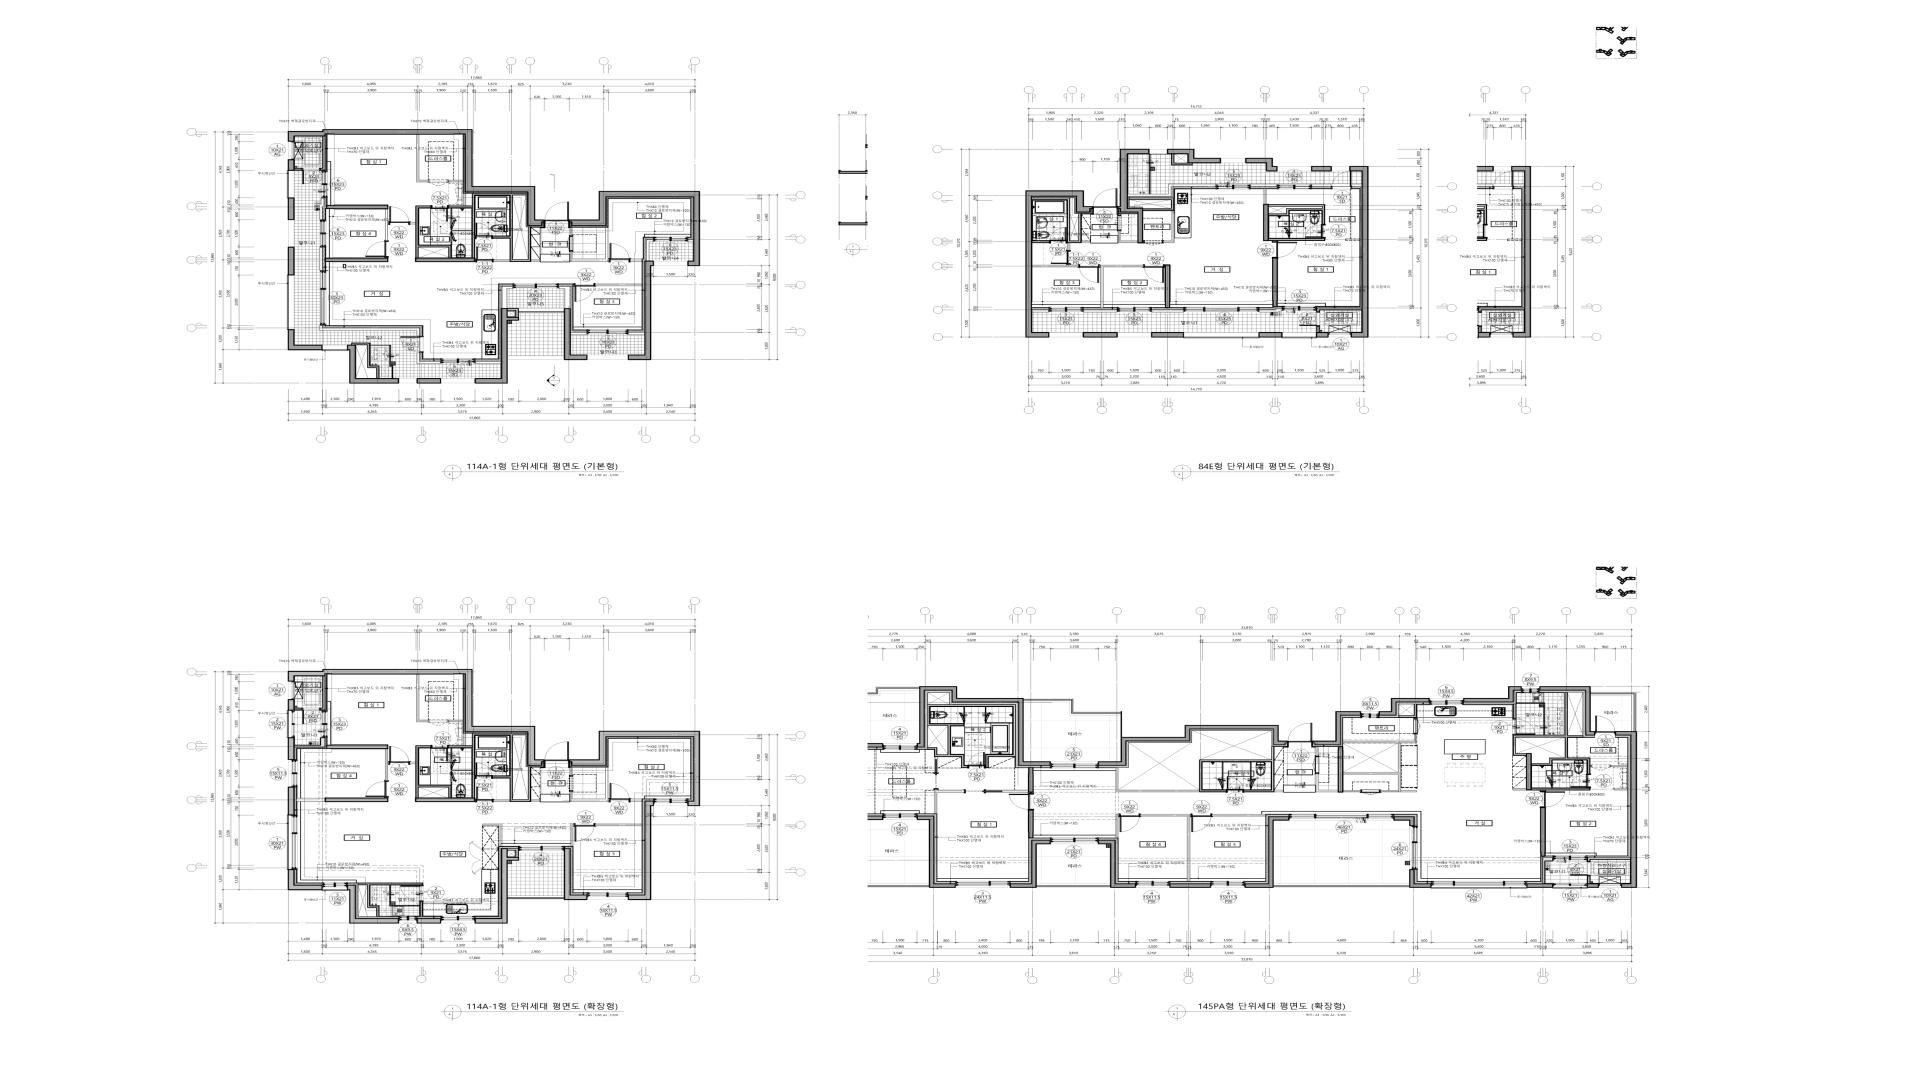door: (1092, 189, 1118, 215), (543, 742, 570, 769), (543, 203, 570, 228), (1288, 723, 1312, 744), (1009, 793, 1034, 811), (1271, 241, 1298, 258), (608, 243, 630, 262), (608, 783, 630, 803), (1540, 791, 1565, 808), (1143, 264, 1164, 284), (1079, 264, 1100, 284), (388, 207, 410, 225), (1118, 814, 1141, 832), (365, 781, 389, 798), (574, 284, 595, 302), (574, 823, 595, 841), (388, 746, 409, 765), (1191, 814, 1212, 832), (365, 241, 389, 257), (400, 336, 423, 352), (400, 886, 423, 902), (1513, 719, 1536, 735), (1332, 171, 1352, 190), (1596, 716, 1615, 735), (302, 167, 320, 185), (475, 762, 493, 779), (1299, 311, 1320, 326), (1050, 227, 1067, 244), (968, 752, 985, 769), (431, 745, 448, 762), (475, 247, 493, 262), (475, 223, 493, 239), (475, 787, 493, 803), (302, 708, 320, 724), (1305, 224, 1325, 239), (1051, 251, 1071, 265), (1571, 861, 1590, 876), (1571, 774, 1592, 787), (431, 206, 448, 222), (1226, 777, 1244, 793), (1590, 765, 1611, 771), (429, 179, 448, 186), (1414, 719, 1420, 735), (1143, 240, 1163, 245), (429, 720, 448, 725), (1361, 790, 1381, 795), (934, 773, 939, 790), (964, 790, 985, 794)
wall: (287, 669, 543, 766), (287, 129, 543, 225), (916, 686, 1051, 766), (570, 191, 700, 266), (570, 731, 700, 806), (1026, 190, 1092, 338), (1098, 725, 1288, 766), (1116, 746, 1283, 793), (1513, 692, 1590, 774), (448, 194, 539, 262), (448, 733, 539, 802), (927, 704, 1015, 769), (1344, 735, 1418, 793), (1023, 699, 1122, 737), (1615, 731, 1638, 887), (475, 848, 520, 924), (1349, 166, 1369, 338), (475, 309, 520, 384), (1141, 814, 1191, 881), (1245, 816, 1290, 887), (1033, 198, 1091, 251), (1118, 149, 1150, 244), (916, 816, 956, 887), (1540, 686, 1596, 736), (628, 800, 654, 901), (628, 261, 654, 360), (409, 745, 452, 798), (359, 882, 423, 916), (410, 206, 452, 257), (347, 885, 400, 924), (857, 744, 884, 820), (347, 345, 400, 384), (1010, 840, 1051, 887), (1098, 840, 1137, 887), (1101, 265, 1143, 307), (1592, 692, 1636, 731), (1312, 711, 1361, 745), (570, 228, 608, 262), (570, 767, 608, 802), (564, 848, 588, 901), (1127, 183, 1216, 196), (564, 309, 587, 360), (1269, 204, 1325, 224), (319, 326, 419, 336), (351, 343, 380, 378), (1464, 686, 1522, 703), (1379, 698, 1429, 716), (287, 330, 322, 351), (287, 869, 322, 890), (1167, 149, 1221, 162), (935, 790, 964, 814), (853, 687, 919, 696), (417, 135, 429, 182), (417, 675, 429, 723), (1274, 884, 1410, 887), (1129, 198, 1174, 210), (1245, 158, 1278, 171), (1410, 869, 1432, 887), (483, 824, 501, 847), (1316, 774, 1338, 793), (1163, 211, 1175, 243), (326, 257, 388, 262), (327, 204, 388, 210), (294, 737, 324, 748), (415, 257, 475, 262), (853, 884, 928, 887), (1036, 884, 1110, 887), (1164, 265, 1171, 309), (1398, 704, 1418, 719), (1543, 857, 1553, 884), (501, 286, 513, 309), (1273, 258, 1278, 307), (1540, 808, 1545, 857), (1526, 753, 1532, 791), (417, 353, 440, 364), (324, 798, 388, 802), (326, 745, 388, 749), (1338, 746, 1344, 793), (559, 286, 570, 309), (1171, 154, 1193, 165), (1118, 231, 1138, 243), (415, 798, 475, 802), (1532, 787, 1590, 791), (1269, 237, 1325, 241), (1394, 816, 1415, 827), (508, 895, 563, 899), (1263, 204, 1269, 241), (287, 247, 294, 276), (1083, 332, 1118, 338), (1027, 811, 1034, 839), (1316, 307, 1362, 311), (287, 787, 294, 815), (320, 676, 326, 711), (320, 137, 326, 170), (1151, 332, 1184, 338), (1588, 857, 1630, 861), (1170, 884, 1211, 887), (287, 198, 294, 220), (287, 737, 294, 760), (1212, 814, 1266, 816), (646, 240, 653, 261), (1029, 767, 1034, 793), (417, 378, 442, 384), (1258, 332, 1283, 338), (417, 918, 442, 923), (595, 284, 642, 286), (1033, 265, 1079, 268), (319, 198, 324, 220), (985, 790, 1029, 793), (1311, 166, 1332, 171), (297, 798, 324, 802), (1527, 884, 1553, 887), (508, 309, 518, 318), (508, 848, 518, 857), (319, 247, 323, 270), (1259, 309, 1282, 313), (1151, 310, 1184, 313), (1084, 310, 1117, 313), (385, 210, 388, 241), (385, 749, 388, 781), (287, 160, 294, 171), (287, 699, 294, 711), (1250, 183, 1278, 186), (475, 361, 501, 364), (1316, 332, 1329, 338), (1263, 189, 1267, 204), (595, 824, 642, 825), (1116, 815, 1118, 837), (571, 824, 574, 847), (419, 902, 423, 916), (1513, 704, 1516, 719), (1312, 183, 1332, 186), (1588, 884, 1600, 887), (630, 258, 642, 262), (1033, 240, 1050, 243), (1344, 790, 1361, 793), (935, 757, 938, 773), (571, 332, 587, 335), (1033, 310, 1048, 313), (1611, 765, 1627, 767), (448, 720, 463, 723), (630, 799, 642, 802), (1352, 183, 1362, 186), (1316, 326, 1320, 332), (1316, 746, 1319, 756), (294, 167, 302, 170), (570, 228, 572, 236), (570, 767, 572, 775), (1588, 876, 1590, 884), (448, 181, 463, 182), (1614, 789, 1627, 790), (295, 708, 302, 711), (688, 240, 694, 243), (1118, 214, 1121, 215)
window: (1432, 881, 1527, 889), (1290, 814, 1394, 820), (286, 815, 298, 869), (1184, 332, 1258, 339), (286, 276, 294, 330), (1184, 307, 1259, 313), (518, 845, 564, 853), (956, 881, 1010, 887), (1410, 827, 1418, 869), (1051, 837, 1098, 844), (1051, 762, 1098, 769), (320, 270, 326, 326), (587, 893, 628, 899), (654, 798, 687, 806), (289, 760, 298, 787), (513, 284, 559, 289), (286, 711, 295, 737), (518, 309, 563, 314), (1211, 881, 1245, 887), (508, 356, 563, 360), (323, 882, 347, 891), (884, 744, 916, 750), (884, 814, 916, 820), (1137, 881, 1170, 887), (1431, 699, 1464, 705), (1283, 332, 1316, 339), (442, 916, 475, 923), (587, 330, 628, 335), (587, 355, 628, 360), (286, 171, 294, 198), (1048, 307, 1084, 313), (1553, 884, 1588, 889), (1553, 856, 1588, 861), (1282, 306, 1316, 311), (1278, 185, 1312, 190), (1216, 185, 1250, 190), (440, 359, 475, 364), (1117, 307, 1151, 313), (654, 261, 687, 266), (442, 378, 475, 384), (1278, 166, 1311, 171), (1118, 332, 1151, 338), (1050, 332, 1083, 338), (320, 711, 327, 737), (653, 237, 688, 241), (322, 171, 327, 198), (320, 220, 326, 247), (289, 220, 294, 247), (322, 345, 347, 351), (1221, 158, 1245, 164), (1361, 712, 1379, 719), (1522, 687, 1540, 694), (400, 916, 417, 923), (1329, 332, 1350, 338), (289, 142, 294, 160), (400, 378, 417, 384), (1332, 166, 1349, 171), (1150, 149, 1167, 154), (289, 682, 294, 699), (1600, 884, 1622, 887)
